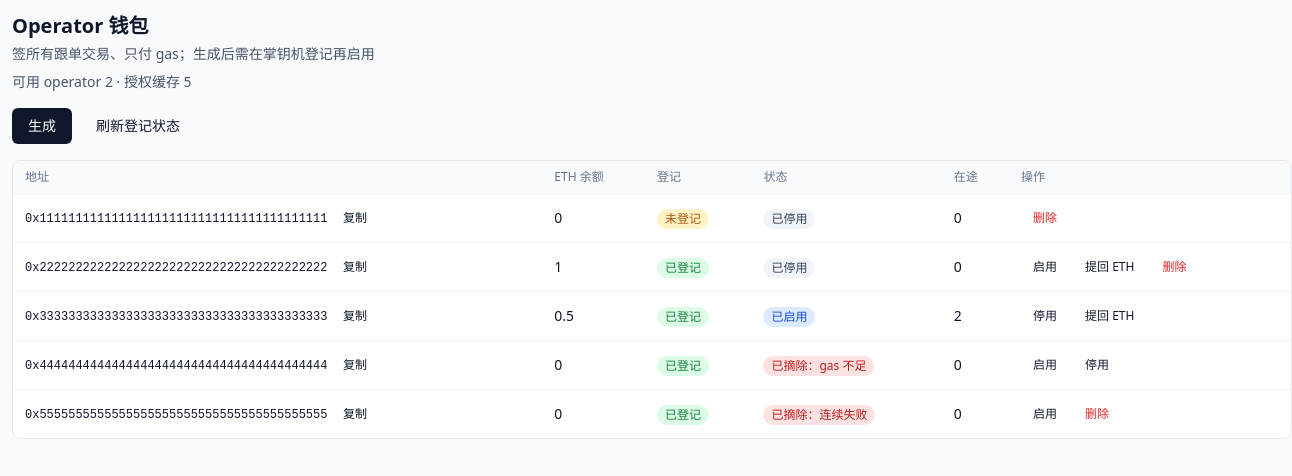
Test: shows the 409 message inline when enabling an unregistered operator
The image size is (1292, 476).
Click the 1st button "启用" at (1045, 267), box 1021,251 -> 1069,283
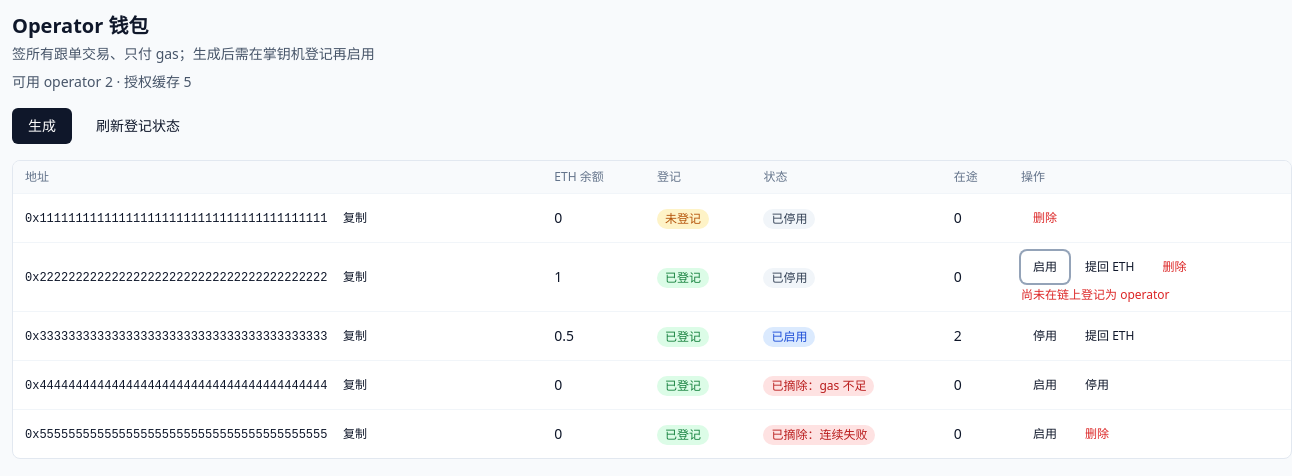
Expected: the text "尚未在链上登记为 operator" is shown, 1021,286 -> 1170,303
